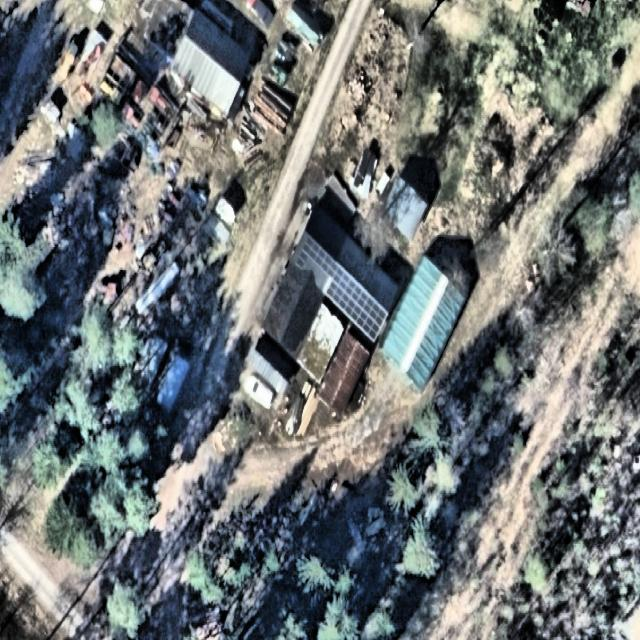roof_pv: (351, 286, 386, 341), (328, 267, 350, 314), (294, 234, 316, 270), (316, 247, 337, 275)
